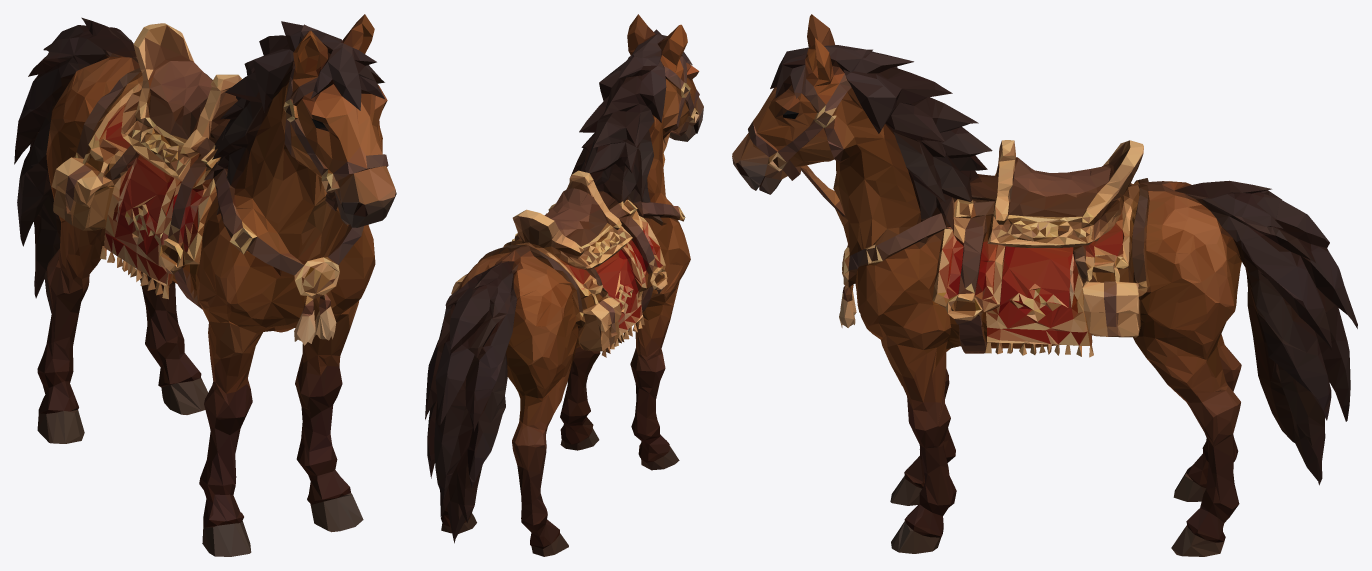
The model's file is horse_lo.glb.
3 renders of one model, left to right at view 1: azimuth 30°, elevation 25°; view 2: azimuth 150°, elevation 25°; view 3: azimuth 270°, elevation 25°, orthographic. The views are drawn at different scales.
Parts seen in each view (by area): view 1: horse; view 2: horse; view 3: horse.
Part boxes in pixels (box(x1,y1,x2,y2)): horse: box(14, 14, 396, 556); horse: box(425, 14, 703, 556); horse: box(732, 14, 1357, 556).
Bounding box in the file's own units: 0.6684 × 1.66 × 1.89.
